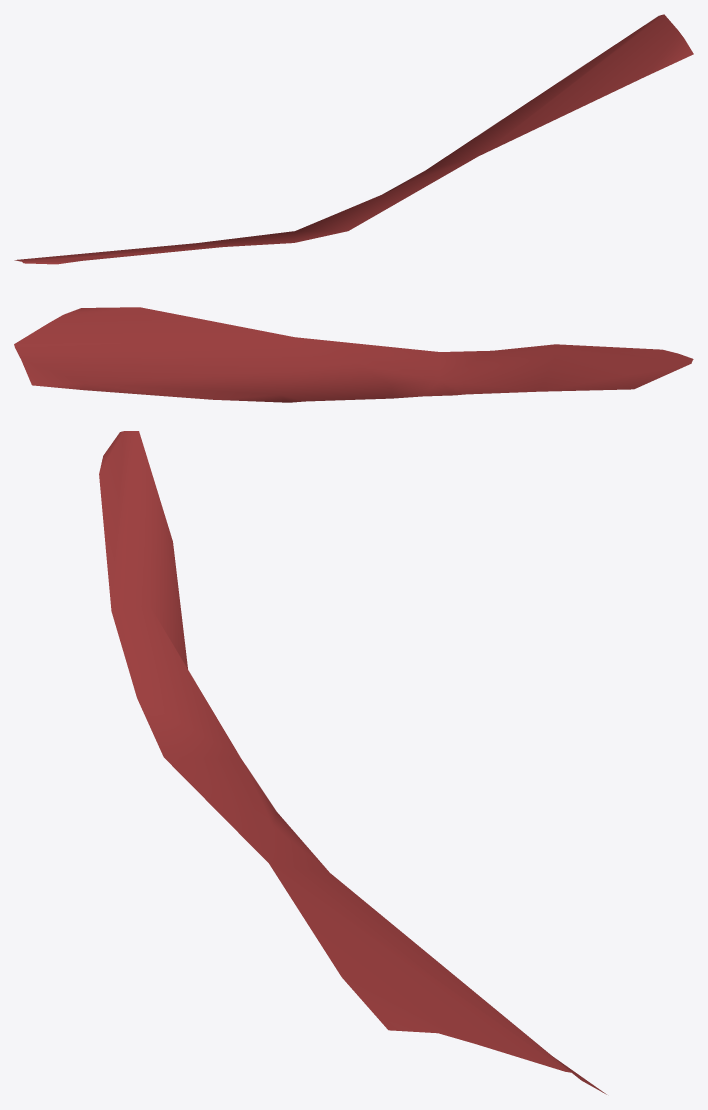
Rendered from geniohyoid-muscle-el.glb.
The picture shows the model from 3 angles, top to bottom: view 1: azimuth 30°, elevation 25°; view 2: azimuth 150°, elevation 25°; view 3: azimuth 270°, elevation 25°; orthographic projection. The views are drawn at different scales.
Parts seen in each view (by area): view 1: Geniohyoid muscle.el; view 2: Geniohyoid muscle.el; view 3: Geniohyoid muscle.el.
Part boxes in pixels (x1,y1,x2,y2): Geniohyoid muscle.el: [14, 14, 693, 264]; Geniohyoid muscle.el: [14, 307, 693, 402]; Geniohyoid muscle.el: [99, 431, 606, 1094].
Bounding box in the file's own units: 0.0102 × 0.00144 × 0.00396.
